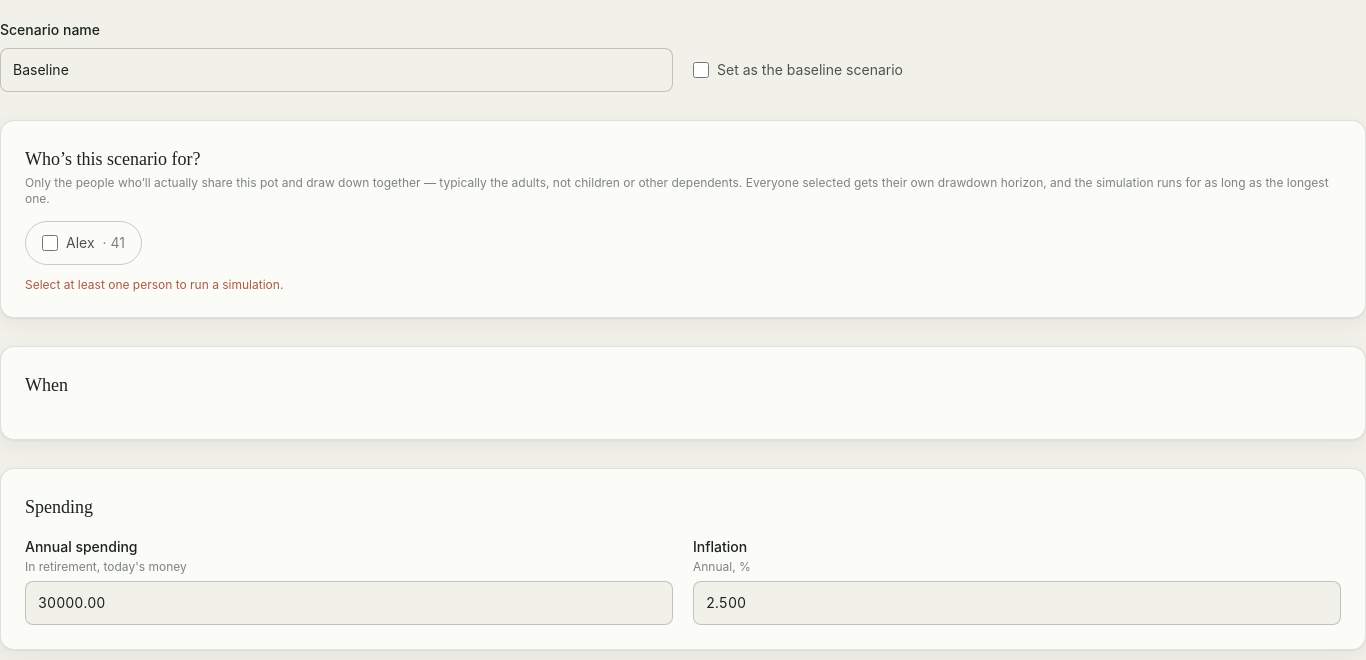
ScenarioEditorForm › one-off events › adds and removes an event row
The width and height of the screenshot is (1366, 660).
Step 1. Click the checkbox labelled "Alex · 41" → point(50, 243), box [42, 235, 58, 251]
(page scrolled)
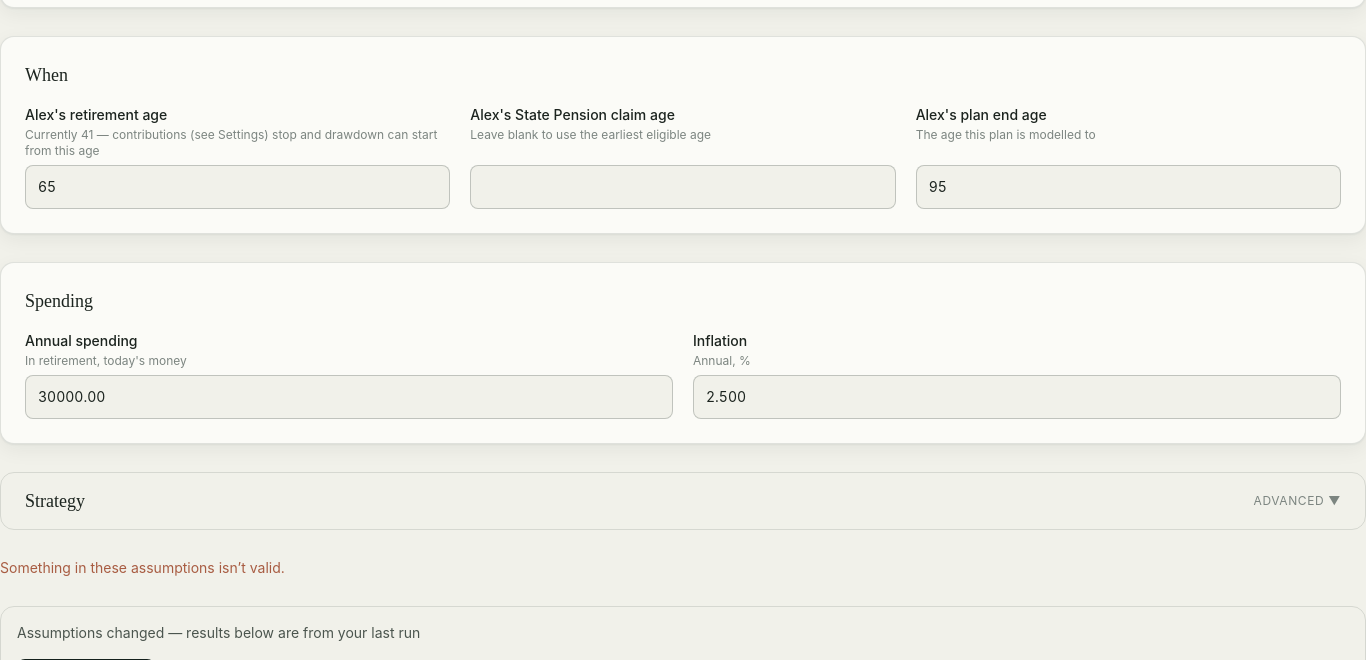
Step 2. Click the button "Strategy Advanced ▼" → point(55, 501), box [1, 473, 1365, 529]
(page scrolled)
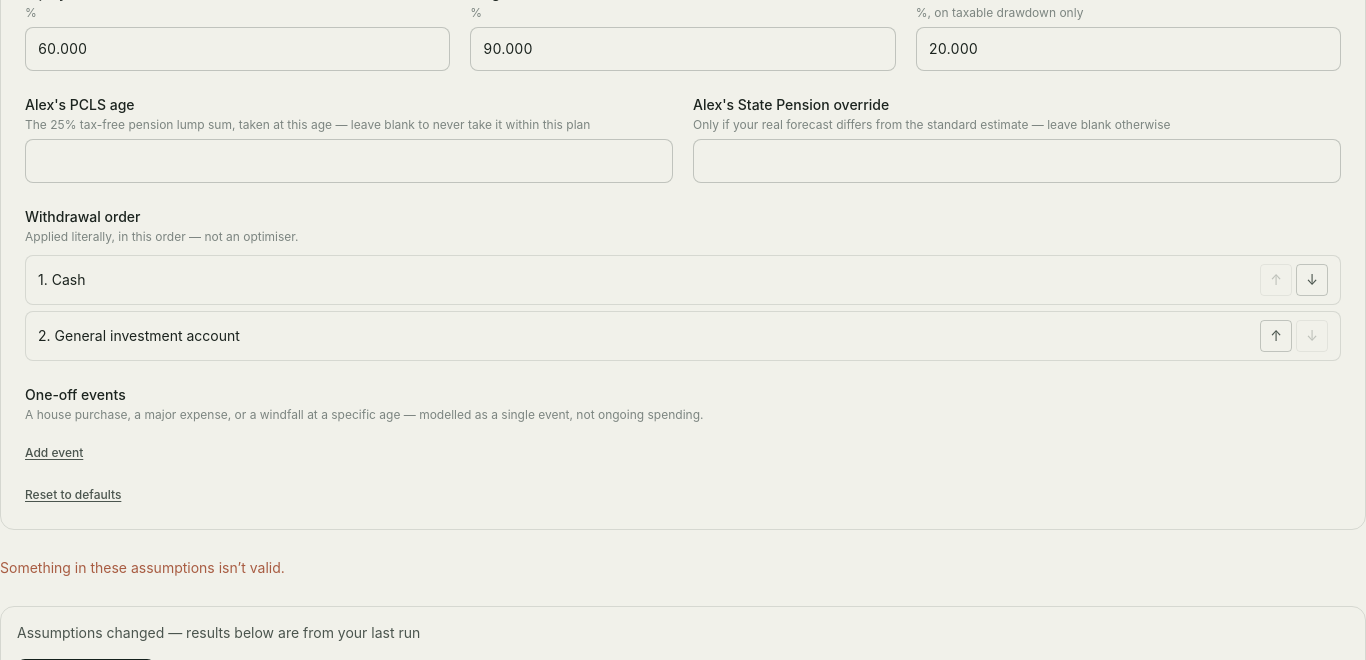
Expected: the field labelled "Label" is not shown
Step 3. Click the button "Add event" → point(54, 453), box [25, 445, 83, 461]
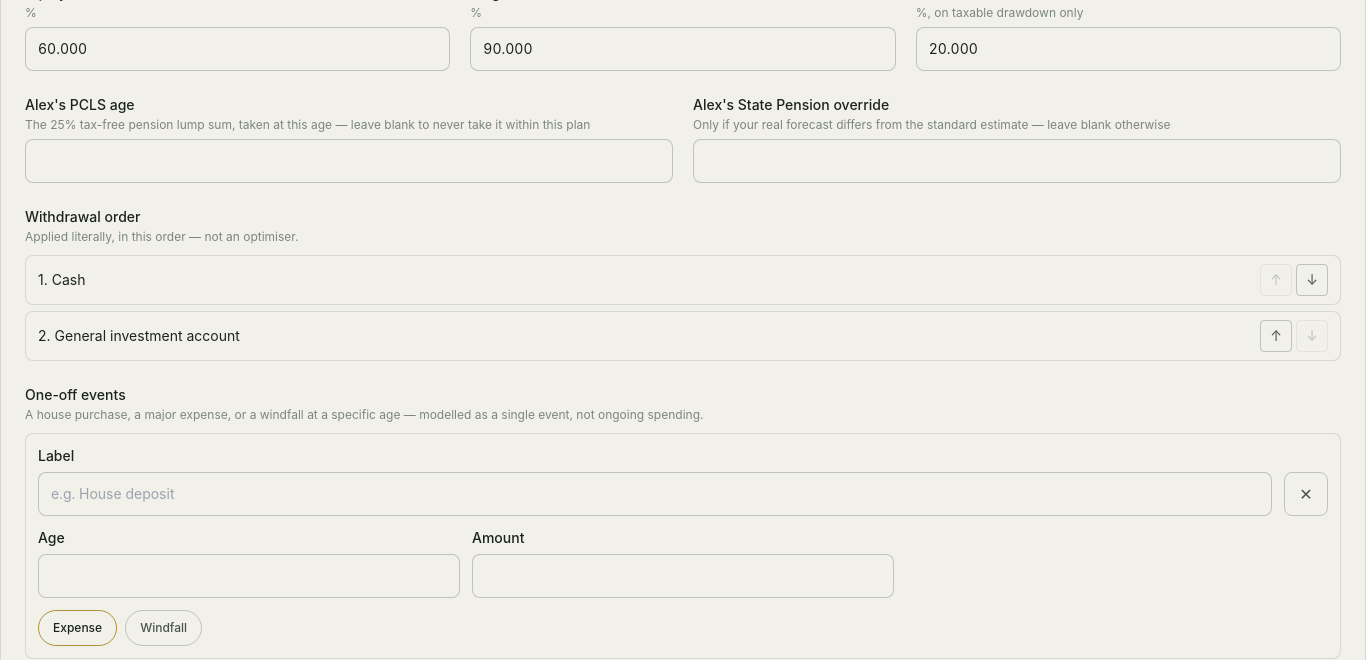
Expected: the field labelled "Label" is shown
Expected: the field labelled "Age" is shown, [38, 554, 460, 598]
Expected: the field labelled "Amount" is shown, [472, 554, 894, 598]
Step 4. Type "House deposit" into the field labelled "Label" → point(655, 494), box [38, 472, 1272, 516]
Step 5. Type "45" into the field labelled "Age" → point(249, 576), box [38, 554, 460, 598]
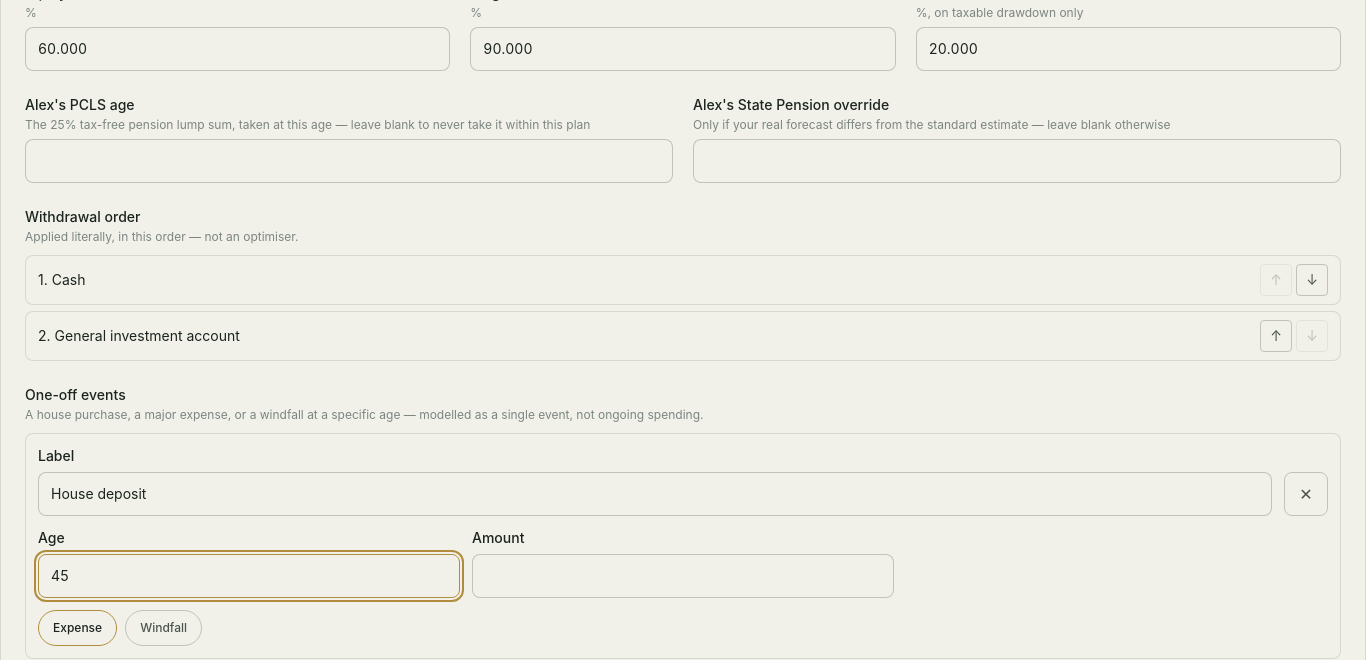
Step 6. Type "50000" into the field labelled "Amount" → point(683, 576), box [472, 554, 894, 598]
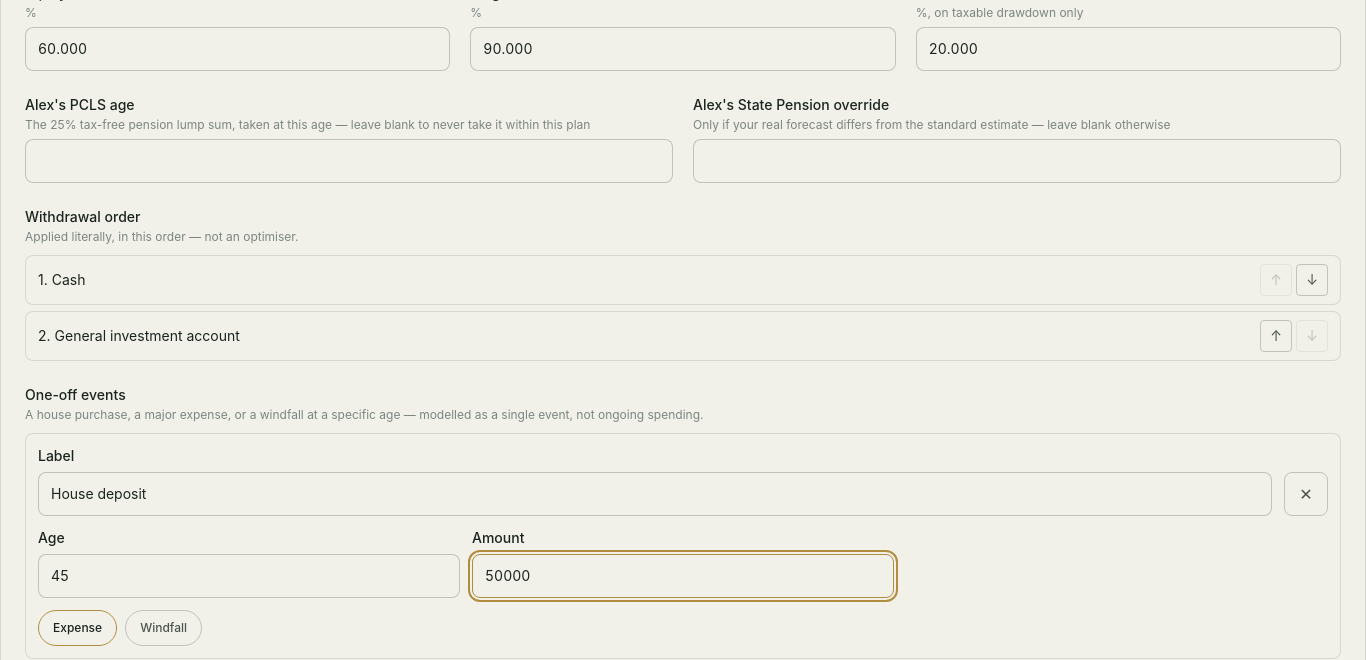
Step 7. Click the button named "Remove" → point(1306, 494), box [1284, 472, 1328, 516]
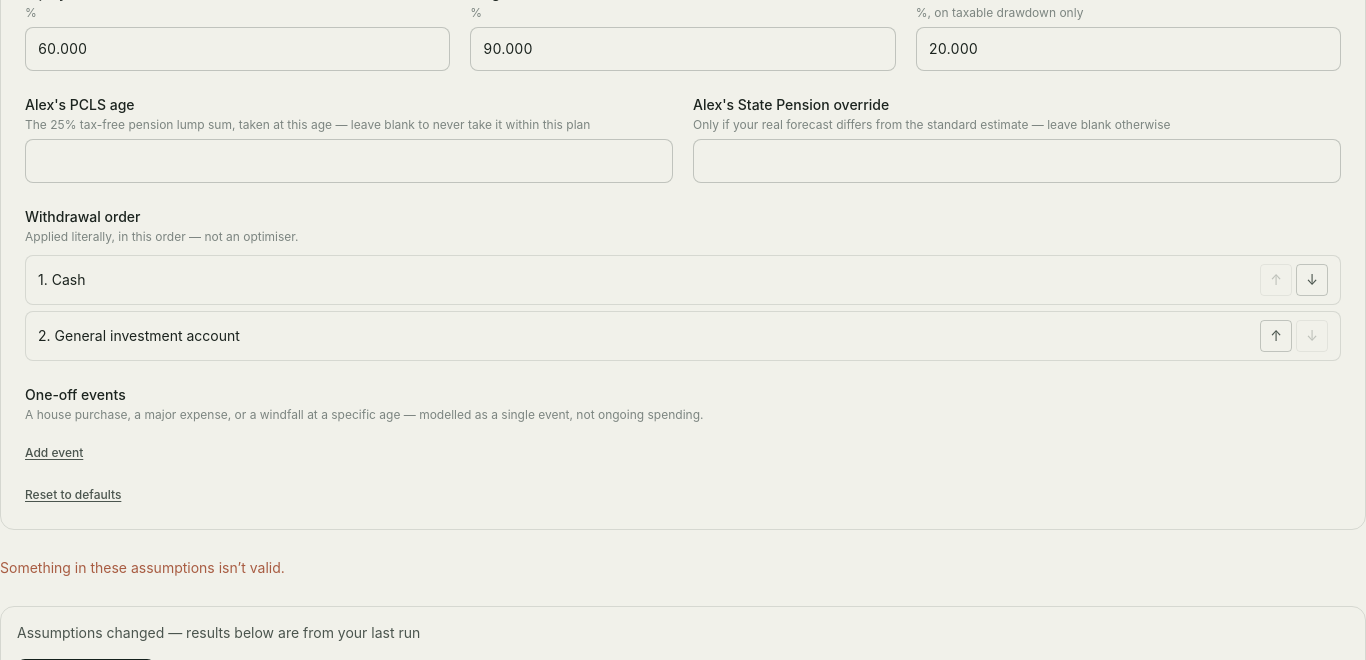
Expected: the label labelled "Label" is gone
